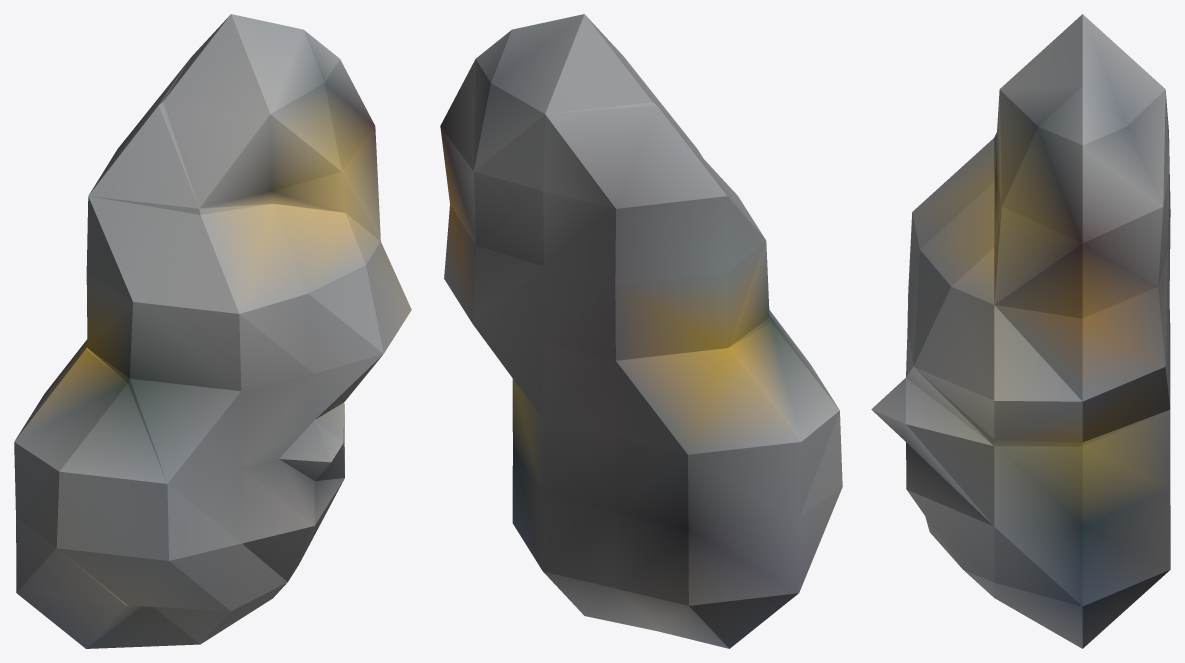
The model's file is 000001_car_vehicle_auto_12288_16.glb.
The picture shows the model from 3 angles, left to right: view 1: azimuth 30°, elevation 25°; view 2: azimuth 150°, elevation 25°; view 3: azimuth 270°, elevation 25°; orthographic projection. The views are drawn at different scales.
Parts seen in each view (by area): view 1: world; view 2: world; view 3: world.
Part boxes in pixels (<box>): world: <box>14,14,411,648</box>; world: <box>440,14,842,648</box>; world: <box>871,14,1170,648</box>.
Size of the model in its own units: 0.5777 by 0.9201 by 0.3935.
